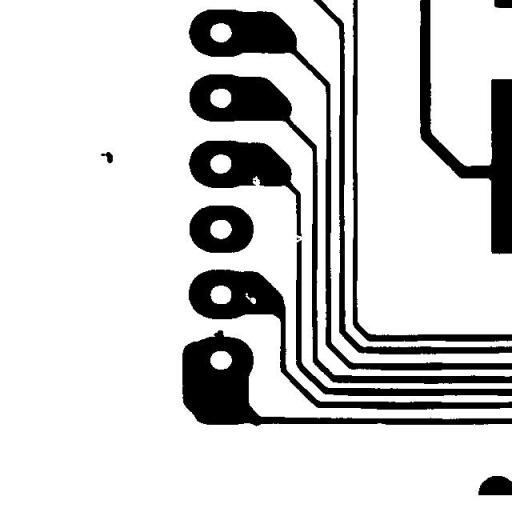copper: (93, 144, 120, 170)
mousebite: (245, 168, 267, 195)
open: (284, 227, 310, 251)
pin-hole: (238, 285, 263, 311)
spur: (206, 322, 231, 346)
